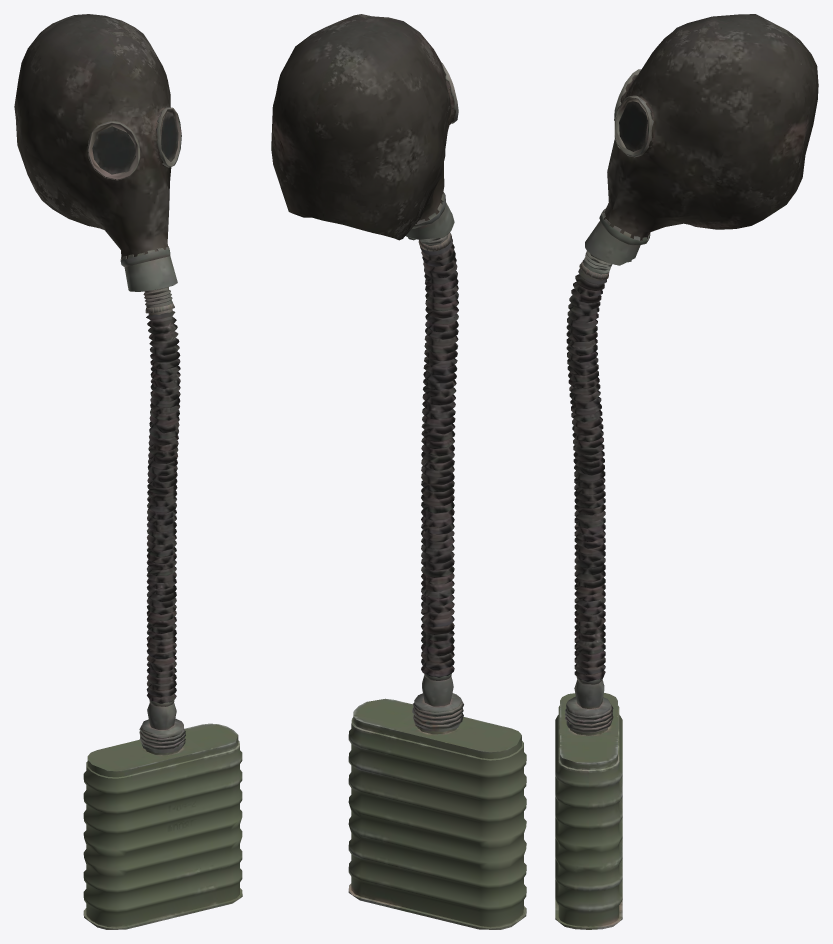
File: old_gas_mask.glb
3 views of the same model, side by side, from view 1: azimuth 30°, elevation 25°; view 2: azimuth 150°, elevation 25°; view 3: azimuth 270°, elevation 25° (orthographic). The views are drawn at different scales.
Parts seen in each view (by area): view 1: old_gas_mask; view 2: old_gas_mask; view 3: old_gas_mask.
Part boxes in pixels (x1,y1,x2,y2): old_gas_mask: (14, 14, 242, 929); old_gas_mask: (271, 14, 526, 929); old_gas_mask: (555, 14, 818, 929).
Bounding box in the file's own units: 0.2105 × 1.13 × 0.3083.
1 material, 1 textured.
